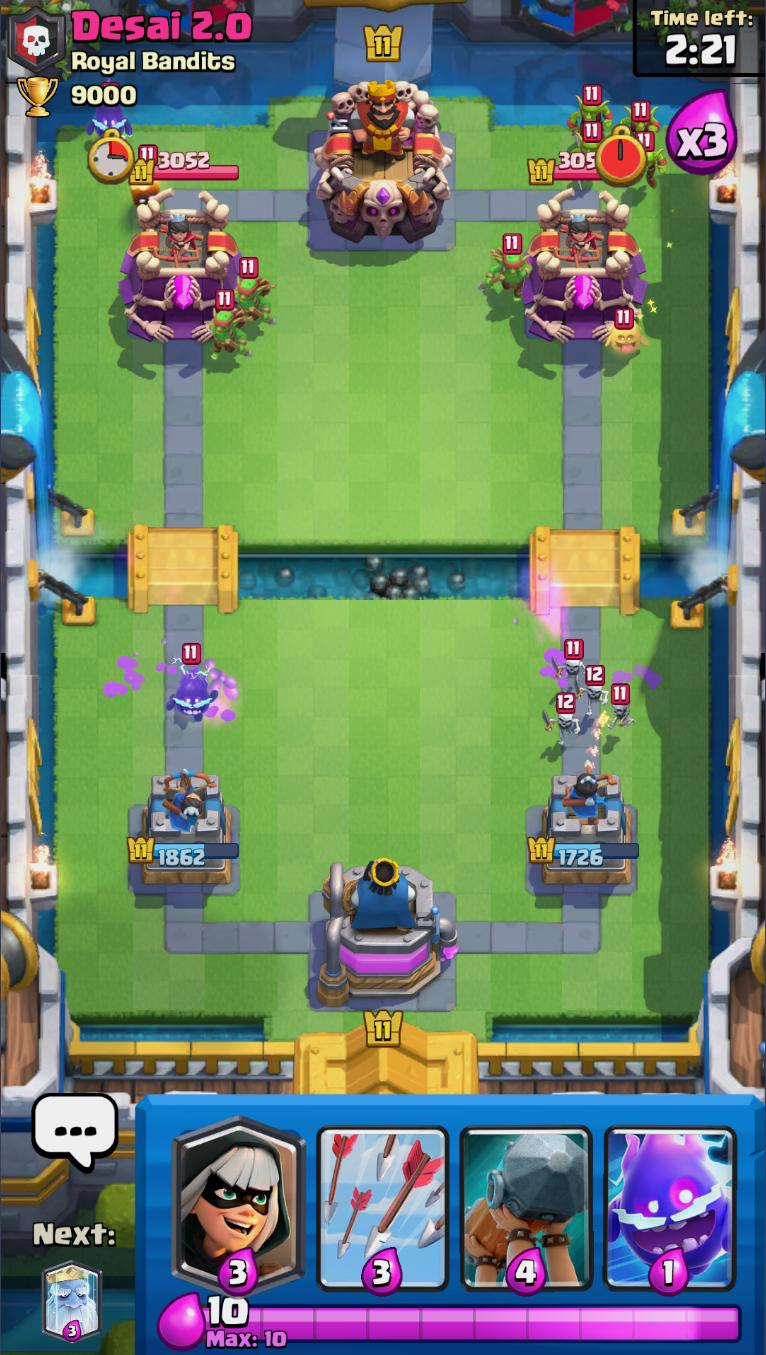ArrowDeck: (309, 1099, 457, 1296)
BanditDeck: (165, 1097, 313, 1294)
BattleRamDeck: (451, 1099, 600, 1294)
ElectroSpirit: (160, 644, 219, 725), (85, 104, 136, 154)
ElectroSpiritDeck: (596, 1098, 745, 1294)
Elixir: (204, 1292, 253, 1328)
EnemyTower: (516, 186, 651, 349), (118, 189, 249, 344)
FireSpirit: (129, 141, 164, 214)
Goblin: (565, 86, 611, 143), (625, 138, 665, 192), (616, 103, 661, 149), (575, 132, 602, 165)
HealSpirit: (605, 306, 649, 359)
KingTower: (308, 78, 455, 248)
MyKingTower: (308, 859, 463, 1009)
MyPrincessTower: (528, 773, 642, 894), (125, 773, 241, 891)
MyPrincessTowerHP: (124, 833, 243, 871), (525, 832, 640, 870)
PrincessTower: (553, 208, 603, 265), (155, 212, 205, 268)
RoyaleGhostNext: (40, 1258, 106, 1344)
Skeleton: (539, 695, 584, 749), (554, 640, 591, 689), (604, 685, 638, 735), (580, 665, 610, 716)
SpearGoblin: (198, 291, 250, 369), (224, 259, 275, 336), (481, 235, 531, 309)
TowerPrincessHP: (129, 146, 241, 185), (528, 149, 599, 185)
